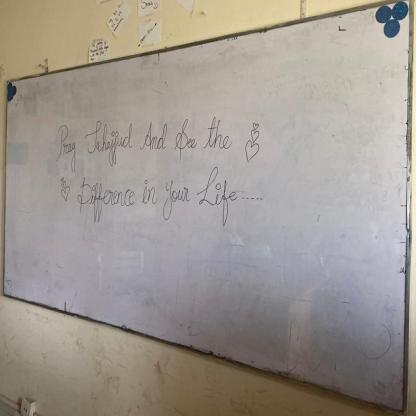Handwritten text: (78, 165, 235, 231), (53, 108, 232, 164)
